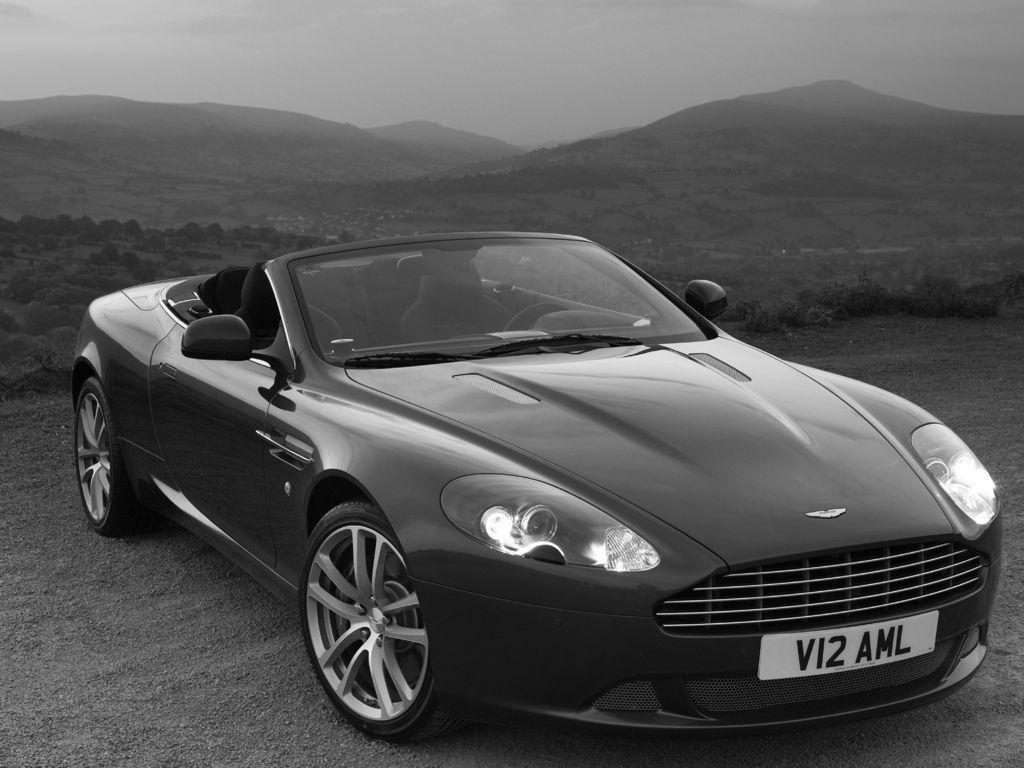car: (67, 227, 1005, 746)
